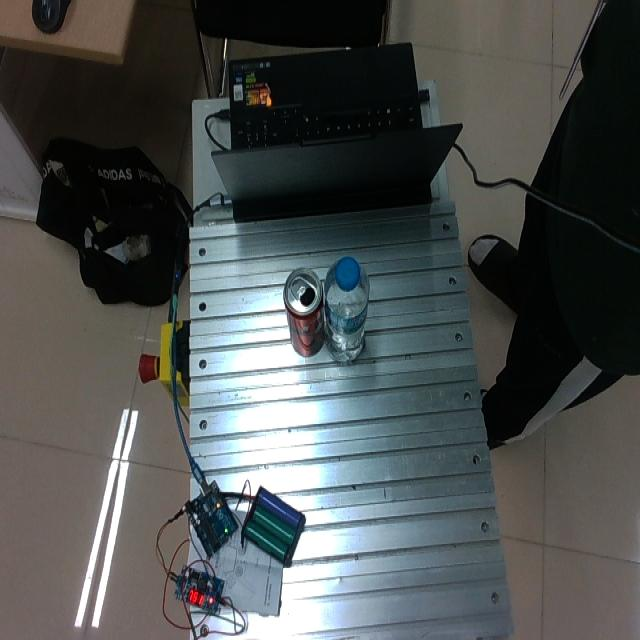coca: (282, 266, 326, 358)
lavie: (322, 256, 369, 363)
